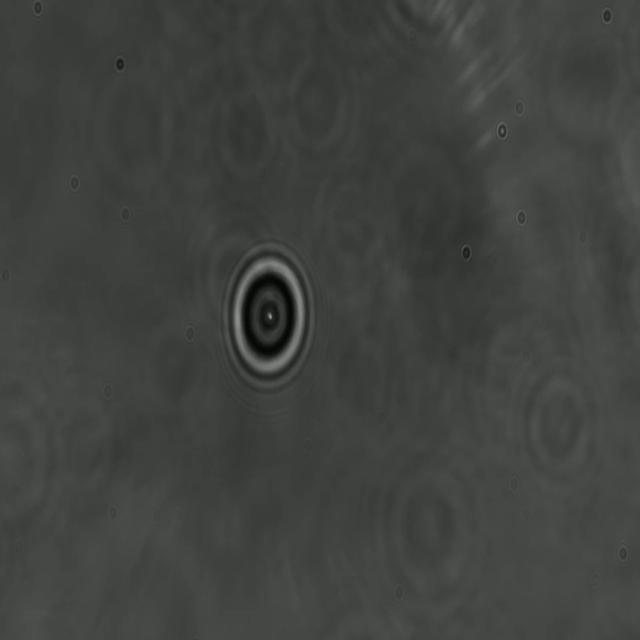LCELL: (221, 242, 317, 396)
